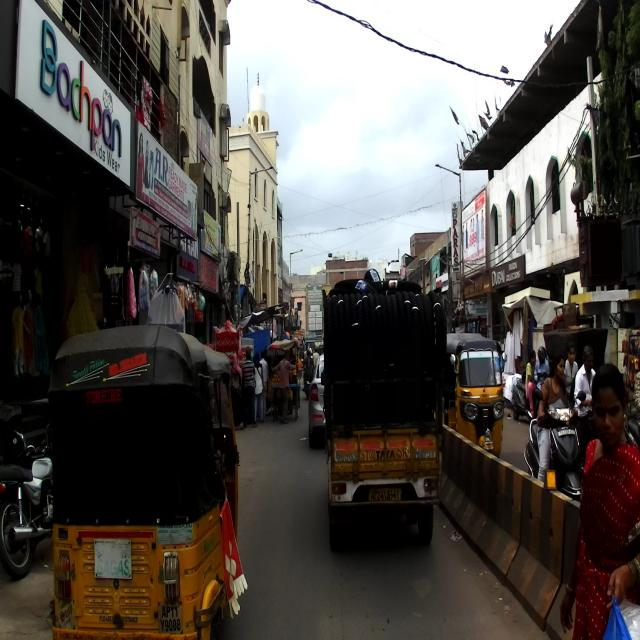autorickshaw: (49, 324, 247, 640), (442, 333, 507, 459)
scooter: (523, 387, 586, 502)
truck: (321, 268, 447, 553)
